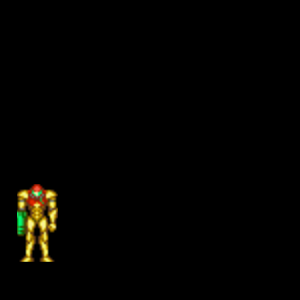Collectible: (17, 184, 58, 262)
